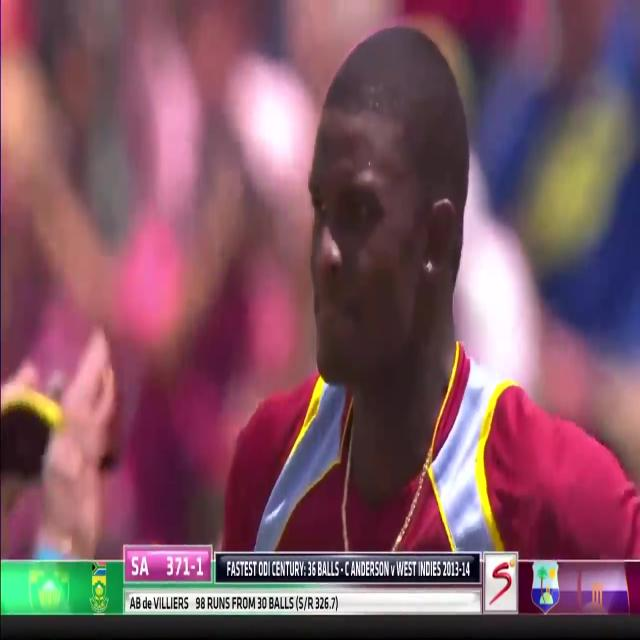Fielder: (214, 0, 631, 556)
